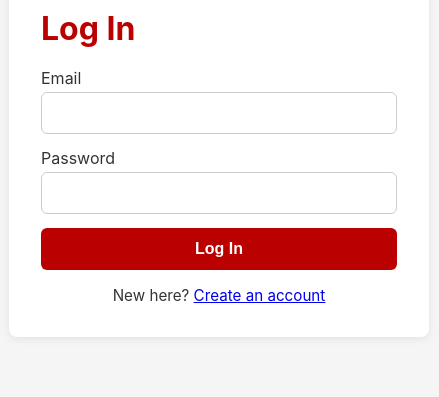
it: <LoginForm /> › shows validation errors when submitted empty
Click the button "Log In": [219, 249] box [41,228,397,270]
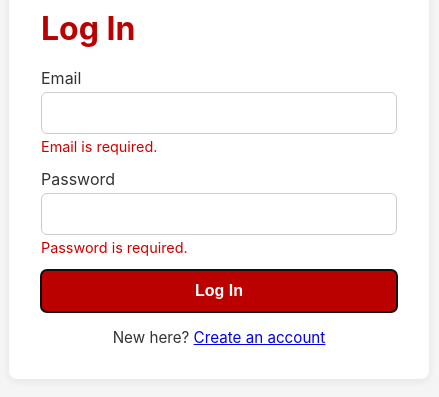
Expected: the text "Email is required." is shown, [41,138,157,155]
Expected: the text "Password is required." is shown, [41,239,188,256]
